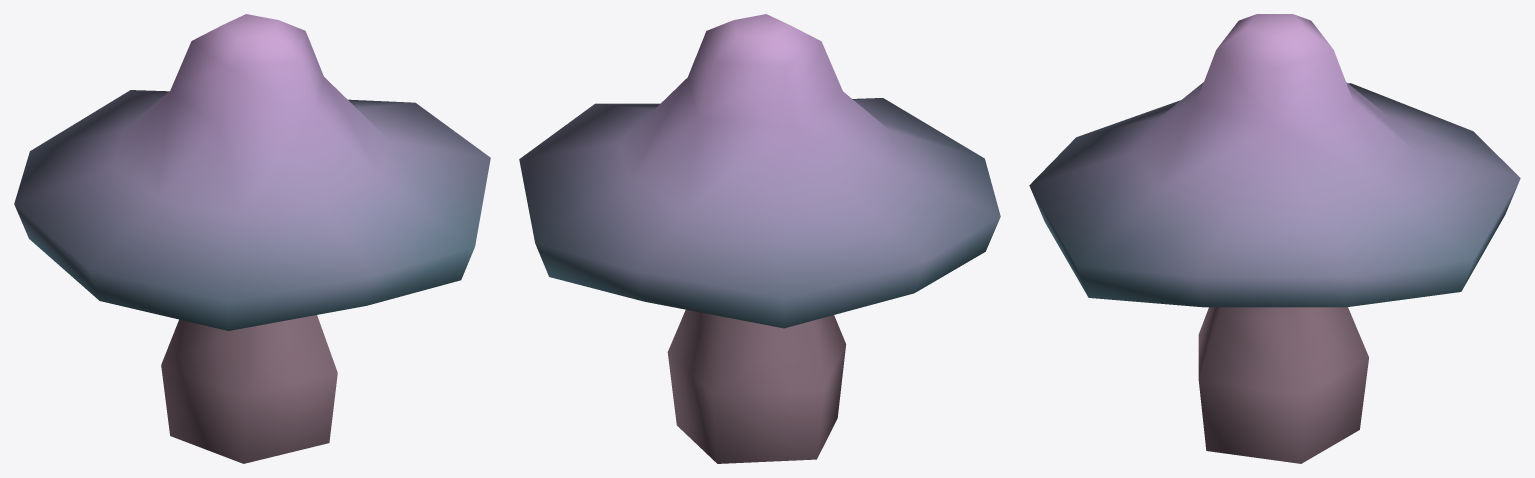
File: prop-mushroom_1.glb
The picture shows the model from 3 angles, left to right: view 1: azimuth 30°, elevation 25°; view 2: azimuth 150°, elevation 25°; view 3: azimuth 270°, elevation 25°; orthographic projection.
Parts seen in each view (by area): view 1: prop_mushroom_1; view 2: prop_mushroom_1; view 3: prop_mushroom_1.
Boxes of the visible parts, box(x1,y1,x2,y2) form: prop_mushroom_1: box(14, 14, 490, 463); prop_mushroom_1: box(519, 14, 1000, 463); prop_mushroom_1: box(1029, 14, 1520, 463).
Size of the model in its own units: 1.89 by 1.81 by 1.99.
